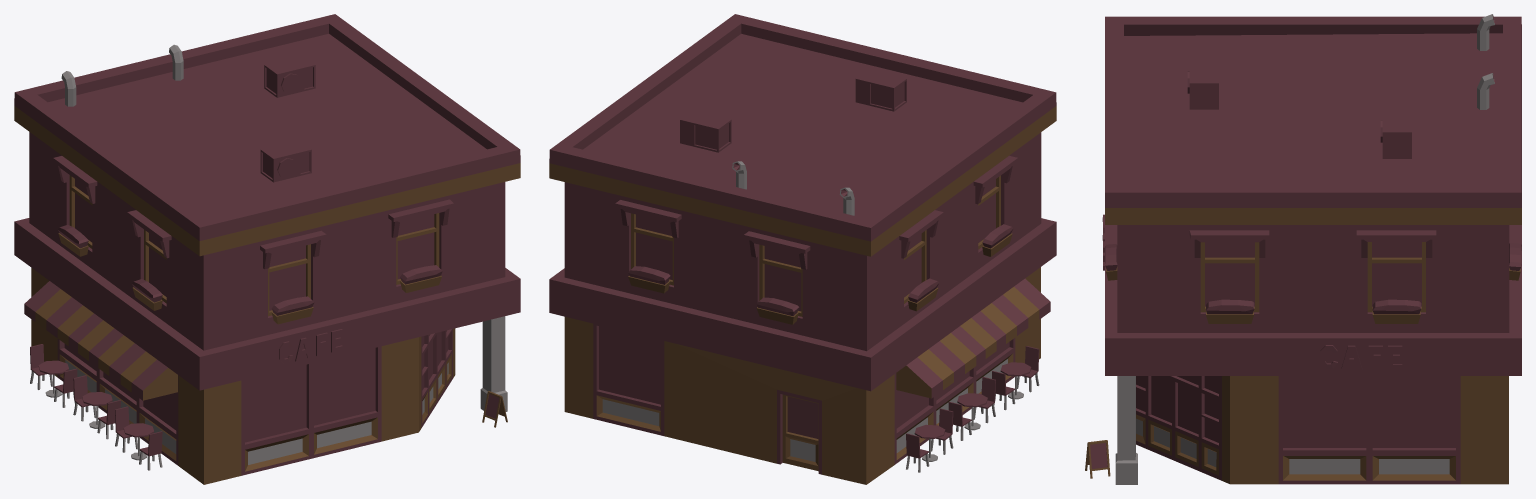
File: building-cafe.fbx
3 renders of one model, left to right at view 1: azimuth 30°, elevation 25°; view 2: azimuth 150°, elevation 25°; view 3: azimuth 270°, elevation 25°, orthographic. The views are drawn at different scales.
Visible parts, largest first — view 1: building-cafe; view 2: building-cafe; view 3: building-cafe.
Boxes of the visible parts, x1=… form: building-cafe: x1=14, y1=14, x2=520, y2=484; building-cafe: x1=549, y1=14, x2=1056, y2=484; building-cafe: x1=1085, y1=14, x2=1521, y2=484.
Size of the model in its own units: 10.85 by 8.49 by 10.48.
